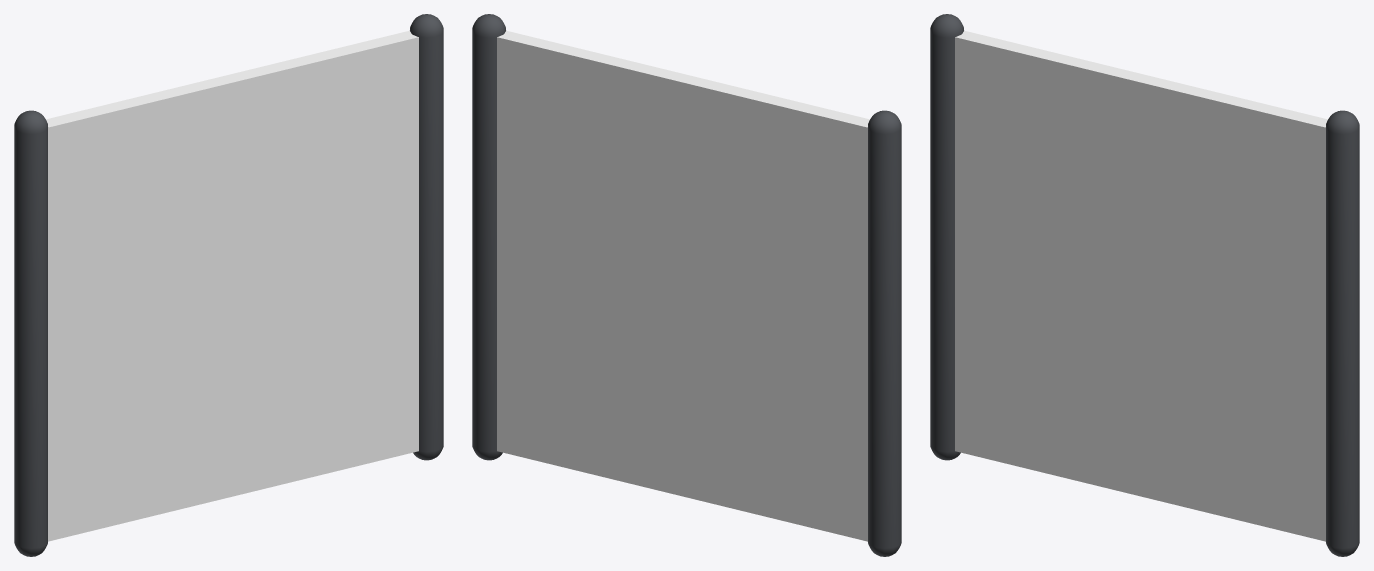
File: ReduceGate.fbx
The picture shows the model from 3 angles, left to right: view 1: azimuth 30°, elevation 25°; view 2: azimuth 150°, elevation 25°; view 3: azimuth 330°, elevation 25°; orthographic projection.
Visible parts, largest first — view 1: gate; view 2: gate; view 3: gate.
Boxes of the visible parts, x1,y1,x2,y2 form: gate: (14,14,443,556); gate: (472,14,901,556); gate: (930,14,1359,556).
Size of the model in its own units: 3.94 by 3.93 by 0.2729.
2 materials, 1 textured.
